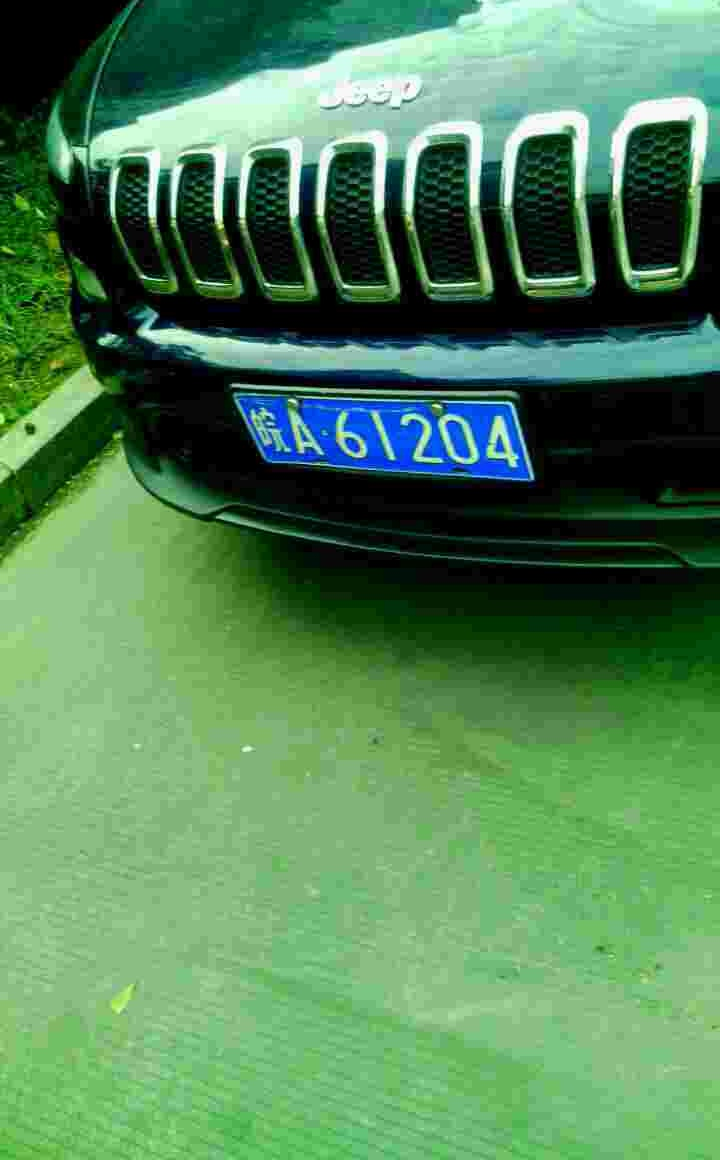license_plate: (246, 391, 548, 488)
